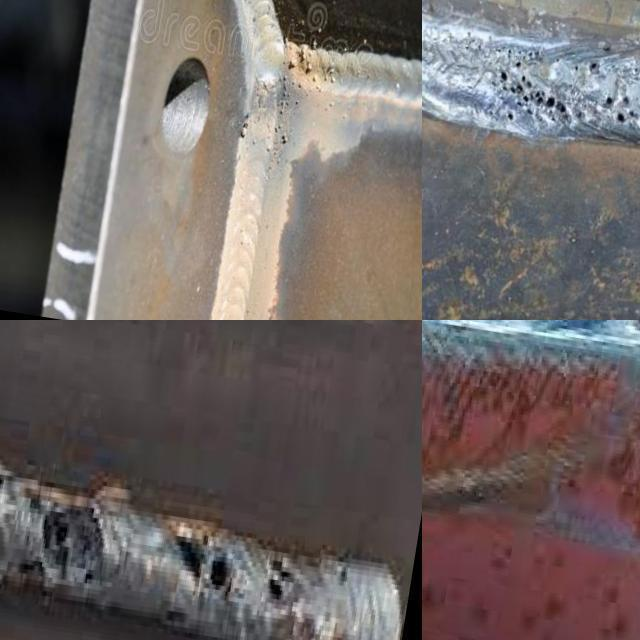defect: (492, 52, 575, 131), (275, 47, 346, 117), (169, 530, 239, 601), (37, 505, 73, 600), (603, 60, 640, 129), (76, 525, 101, 593), (266, 553, 294, 608), (237, 106, 253, 148), (273, 120, 292, 149), (583, 54, 604, 80), (338, 558, 352, 586), (0, 465, 10, 490)
